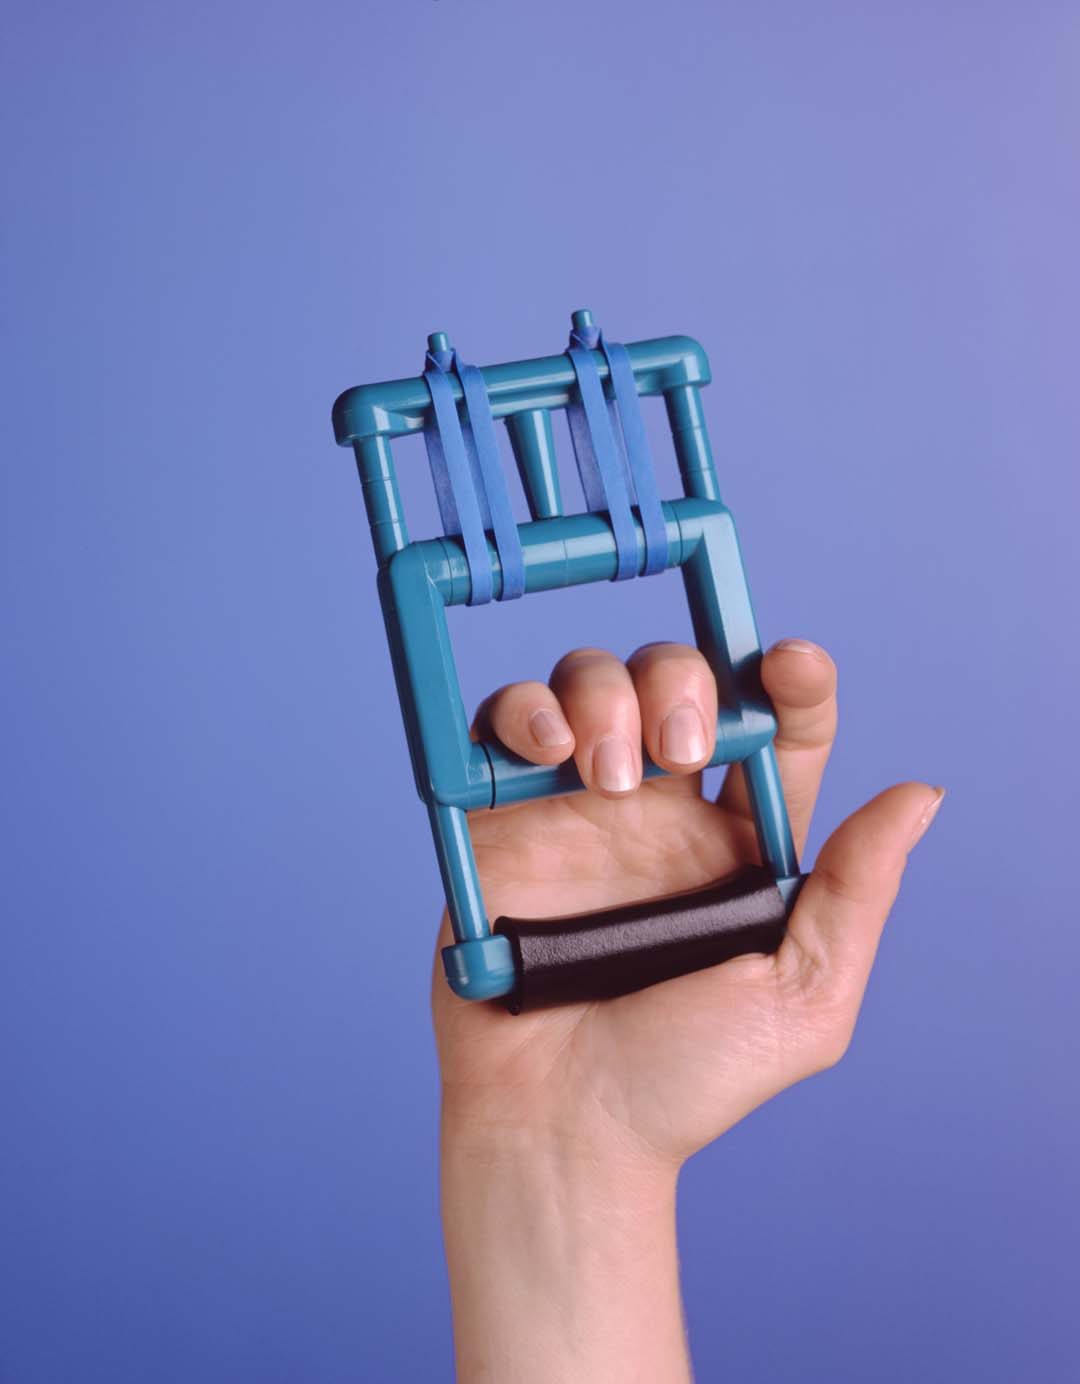finger: (713, 625, 845, 814), (565, 640, 665, 790), (639, 629, 726, 763), (485, 688, 595, 764)
